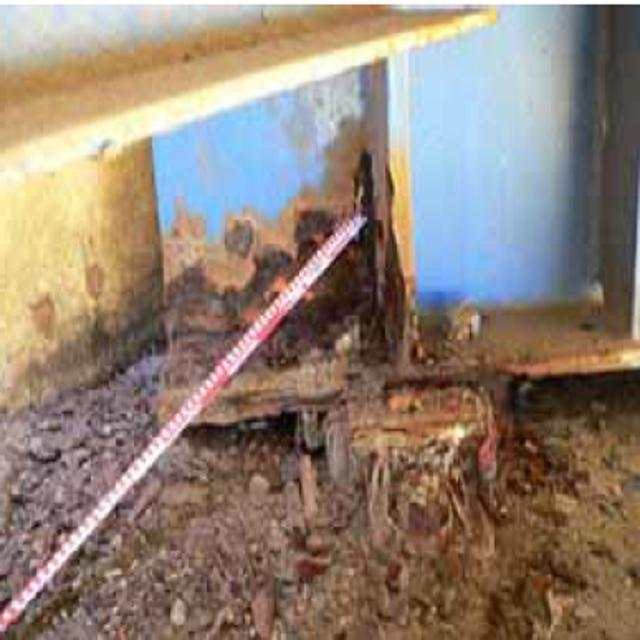corrosion: (60, 200, 540, 461)
